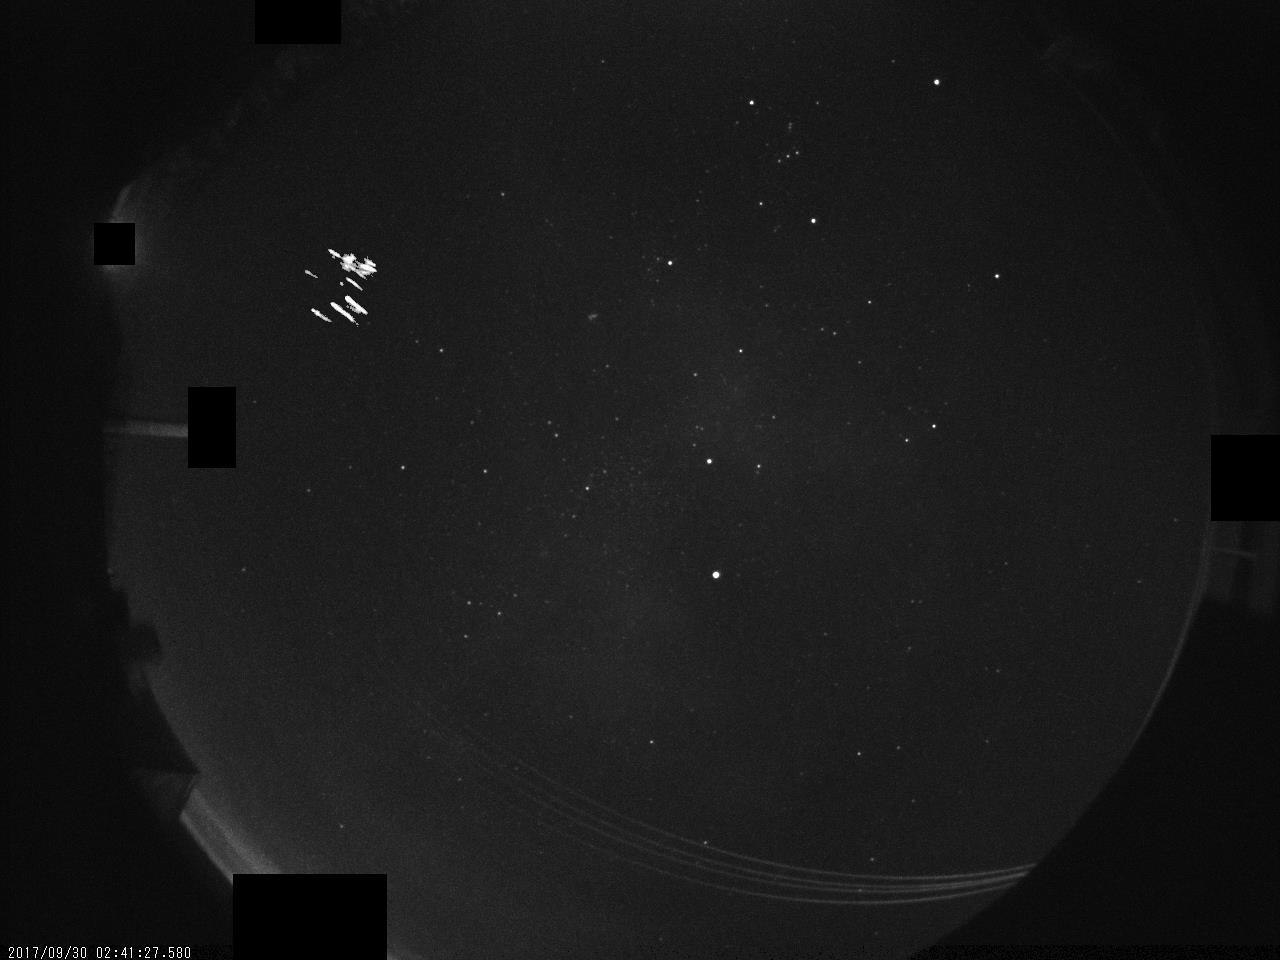TLE: (277, 228, 388, 341)
